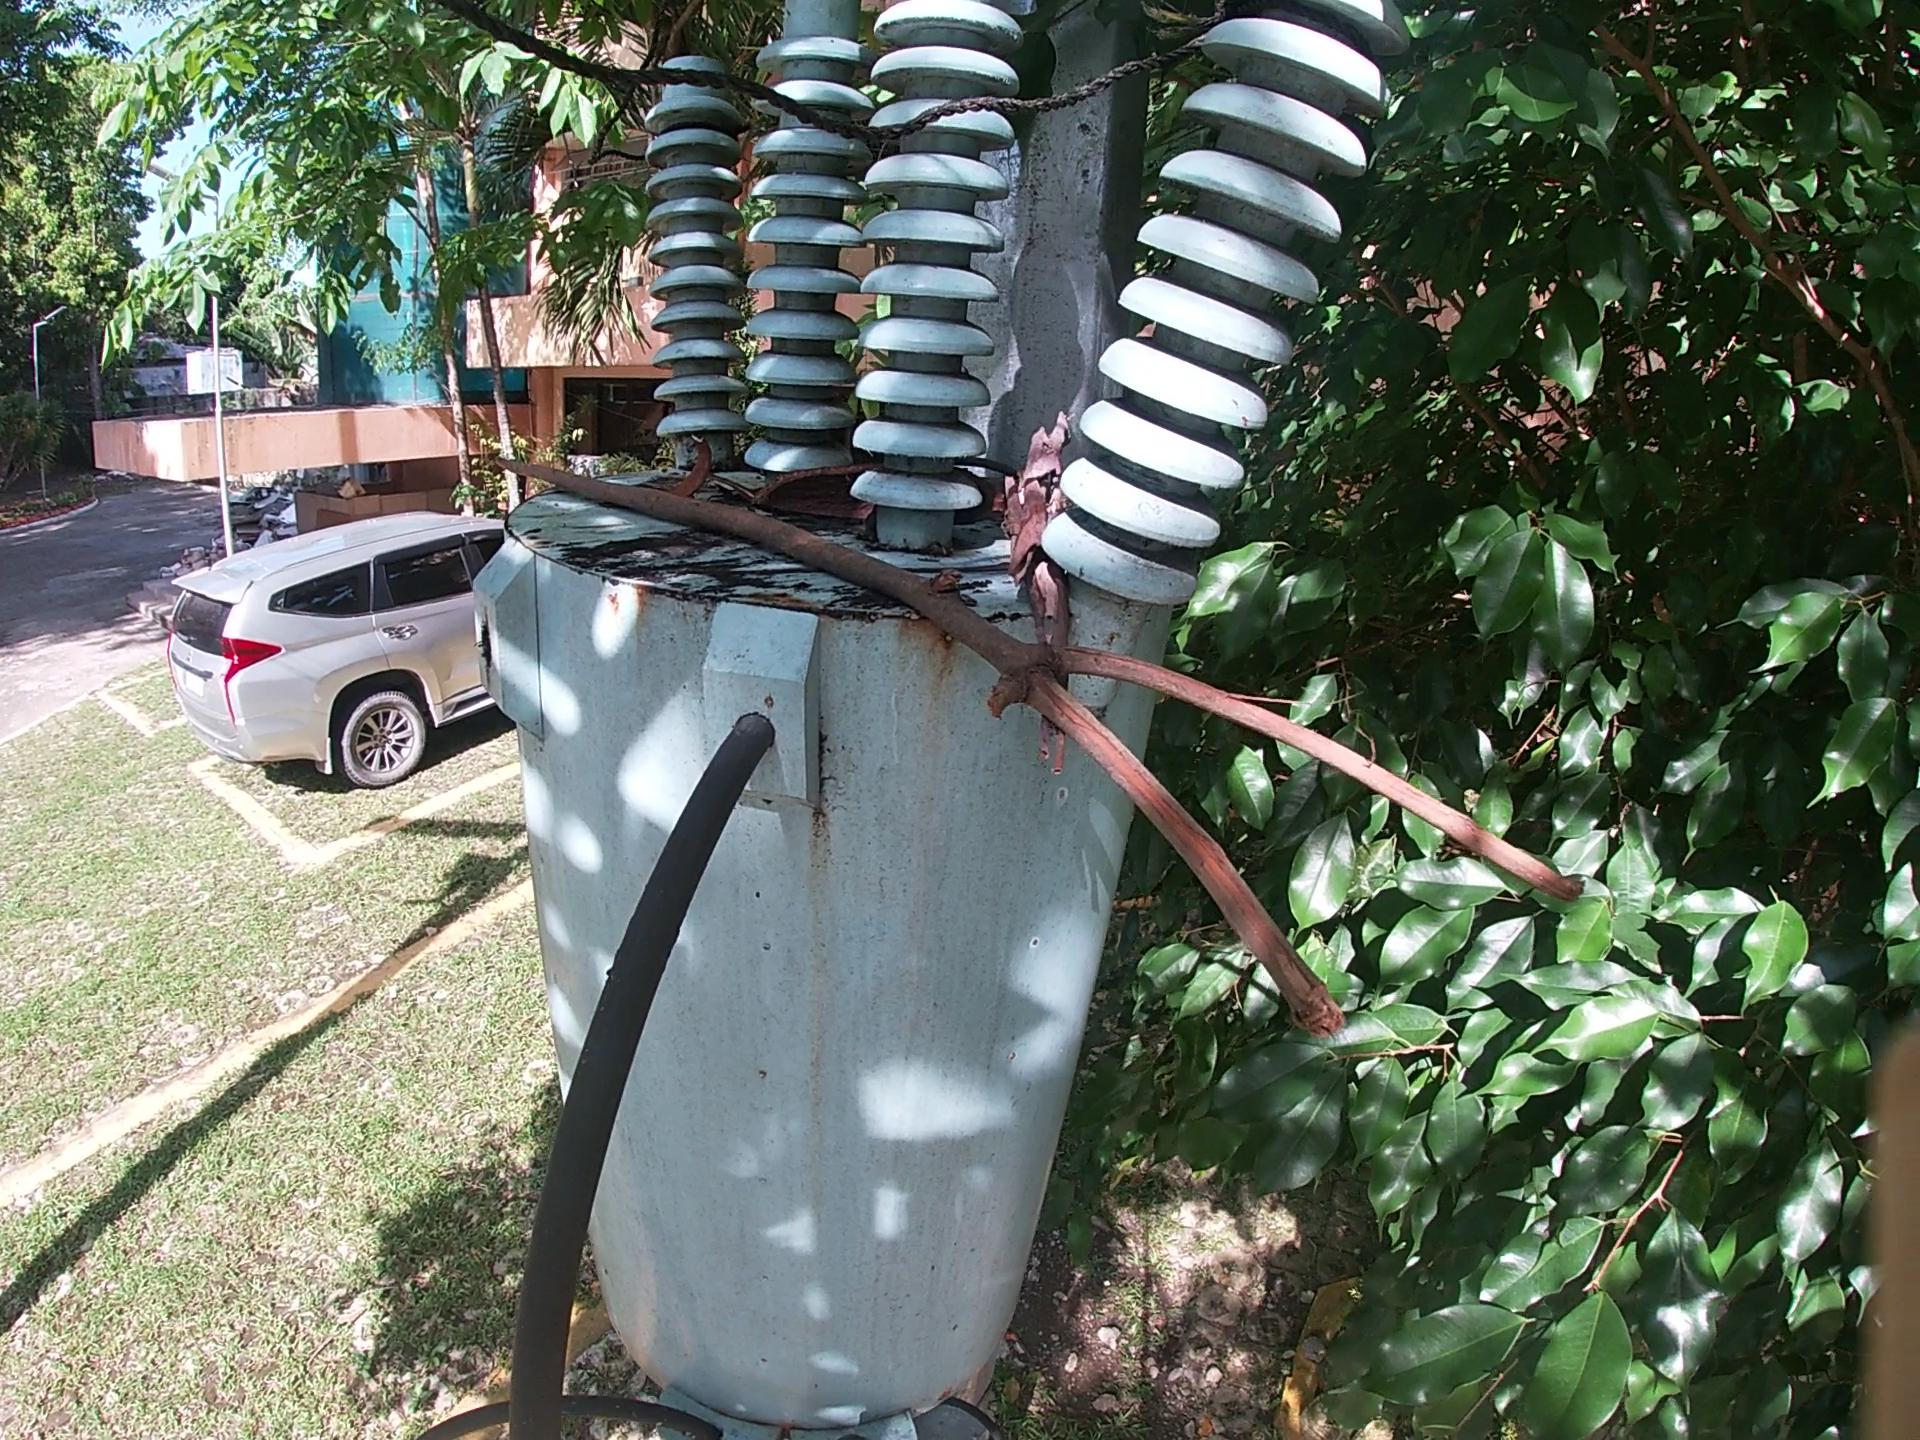mahogany fruit: (739, 473, 862, 525), (659, 433, 720, 493)
tree branch: (506, 455, 1603, 1091), (996, 374, 1073, 806), (966, 458, 1019, 475)
